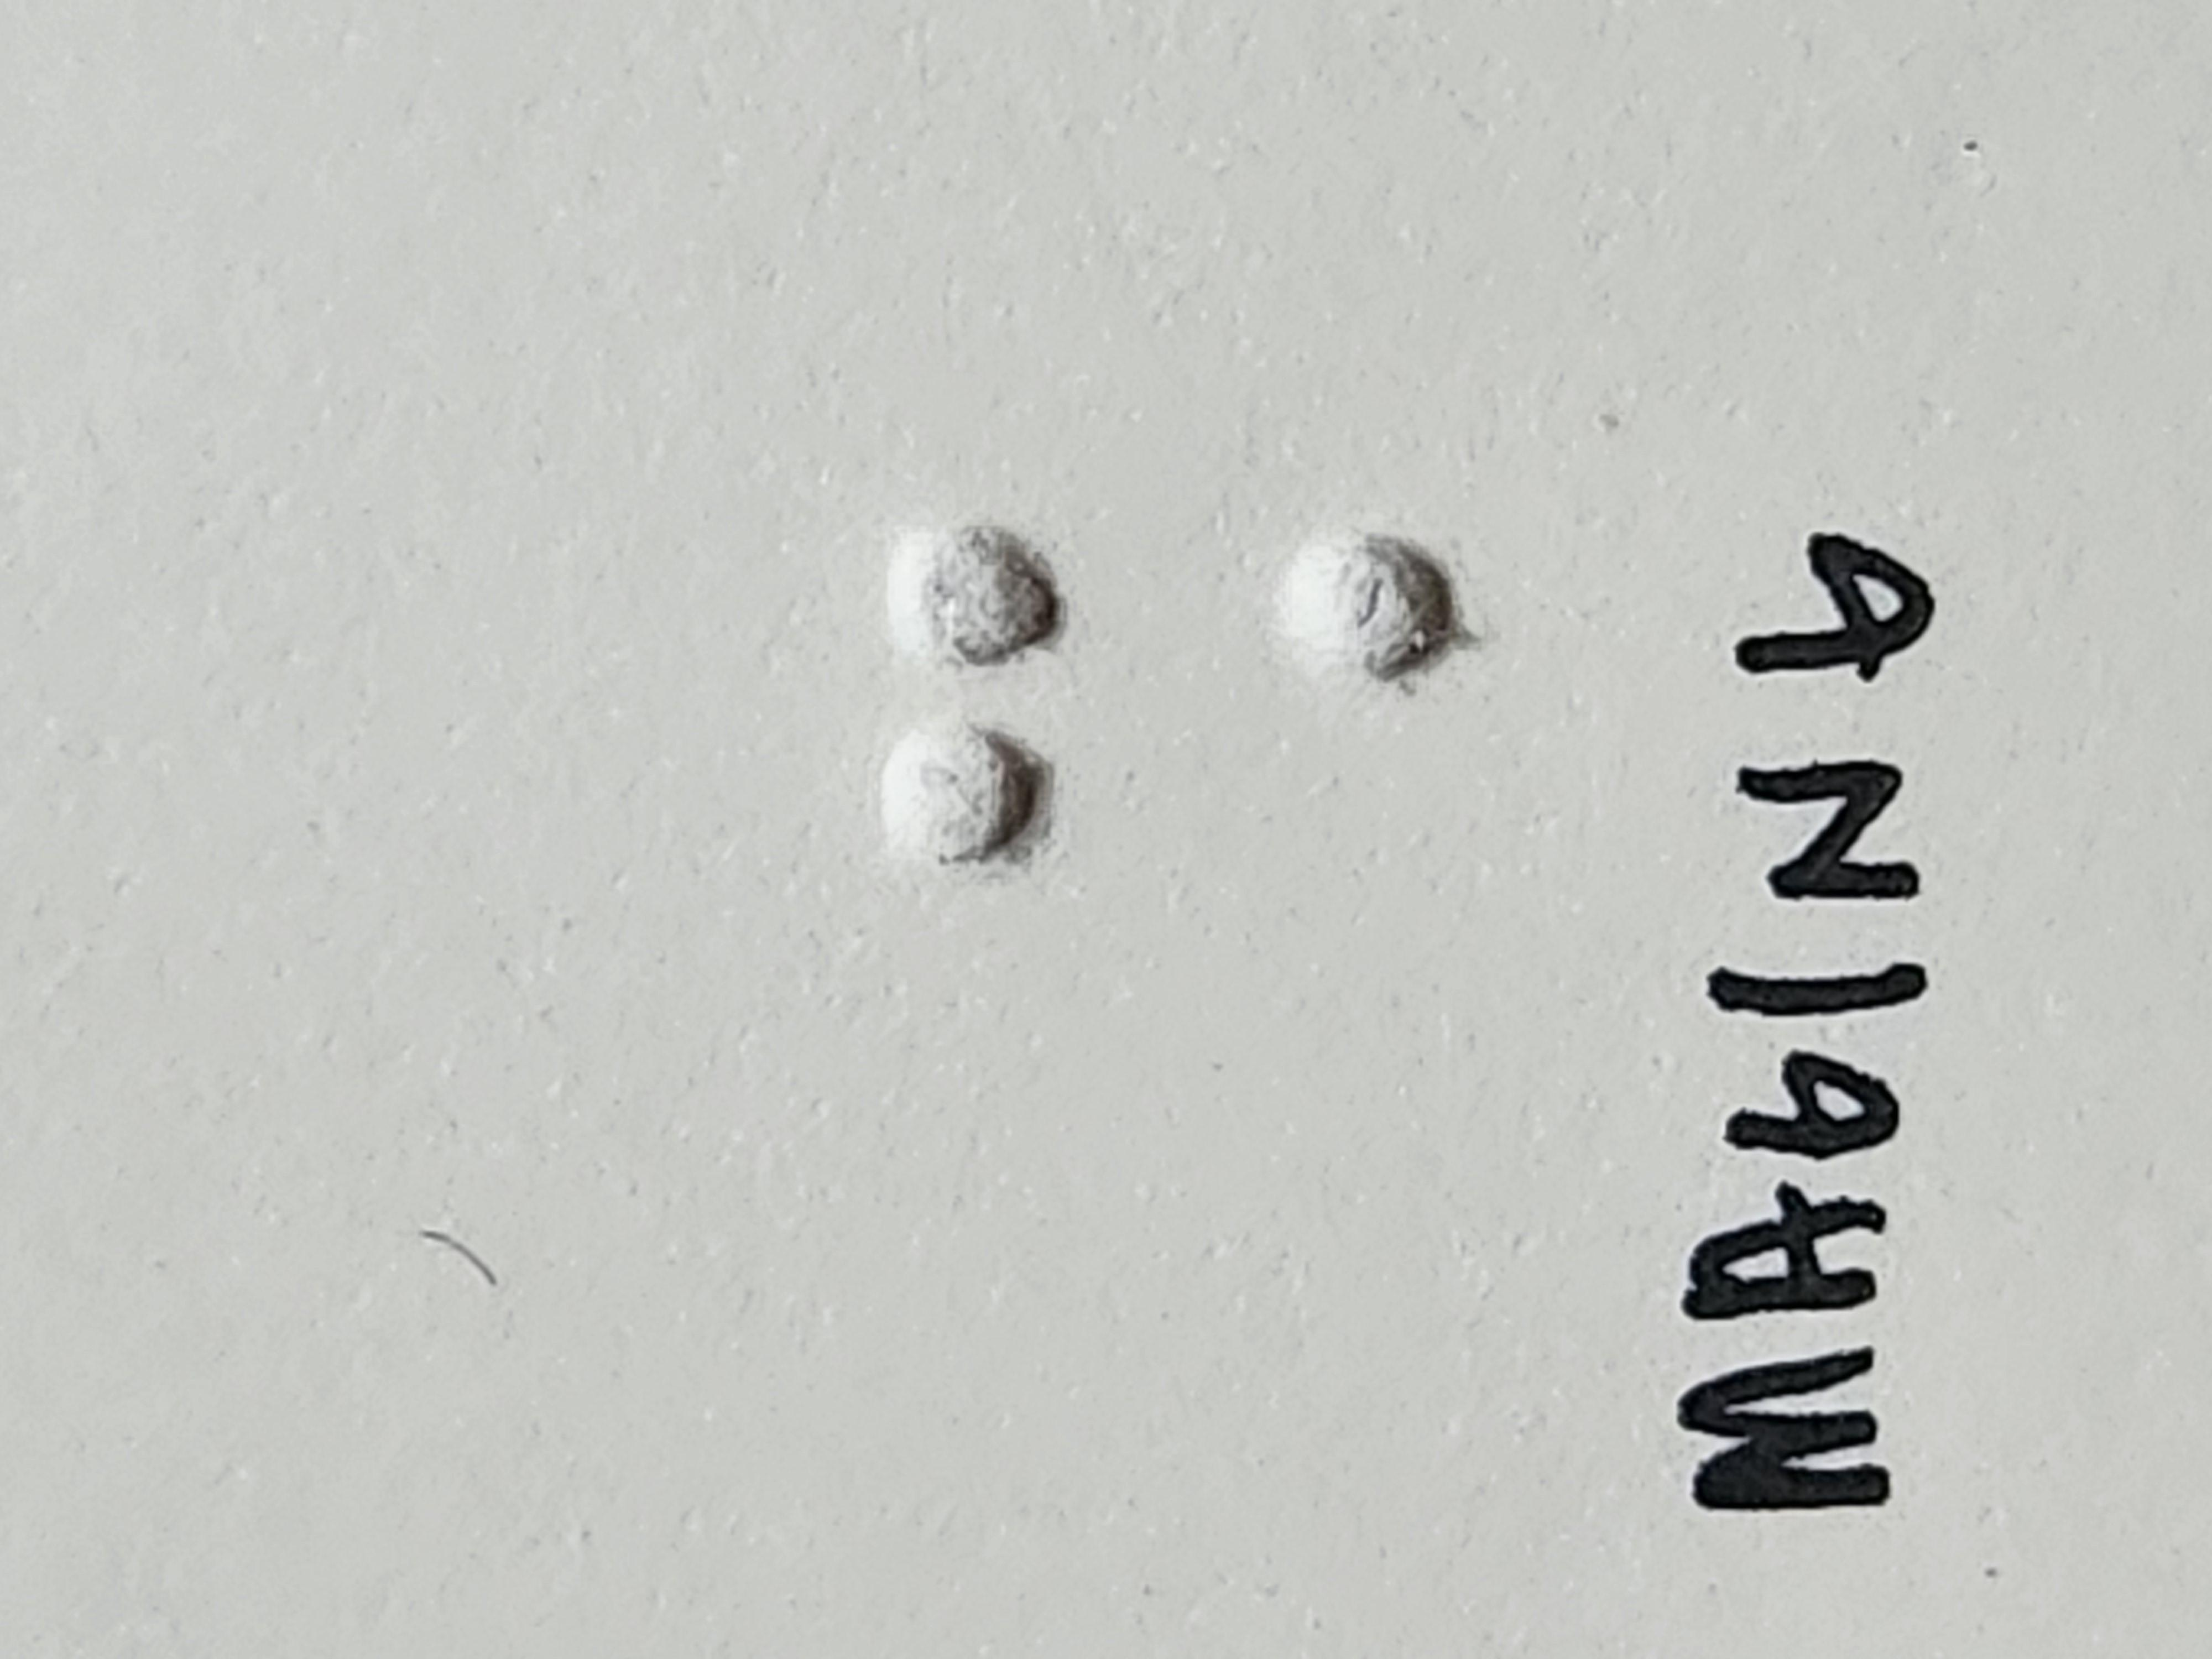one_cell_non_alphabet_maging: (1055, 660, 1517, 1098)
